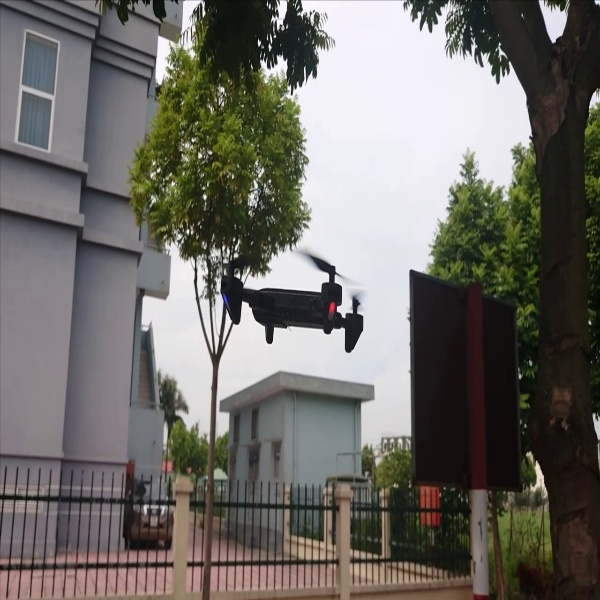drone: (211, 249, 374, 357)
